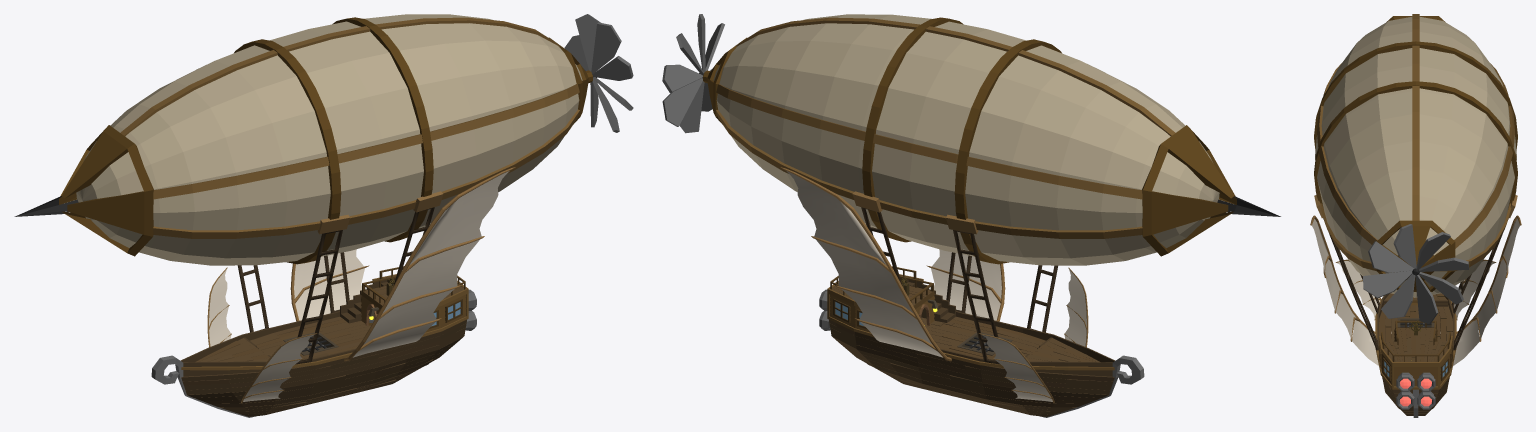
Rendered from lowpoly_flying_ship.glb.
3 views of the same model, side by side, from view 1: azimuth 30°, elevation 25°; view 2: azimuth 150°, elevation 25°; view 3: azimuth 270°, elevation 25° (orthographic). The views are drawn at different scales.
Visible parts, largest first — view 1: Blimp_9, Wing_156, Blimp.Brace6_15, Blimp.Brace1_10, Blimp.Brace2_11, Wing.001_157, Blimp.Brace3_12, Rigging_154, Blimp.Brace4_13, Hull.128_131, Hull.143_107, Hull.142_106 (+13 smaller); view 2: Blimp_9, Wing_156, Blimp.Brace6_15, Blimp.Brace1_10, Blimp.Brace2_11, Wing.001_157, Blimp.Brace3_12, Rigging_154, Blimp.Brace4_13, Hull.128_131, Hull.143_107, Hull.142_106 (+13 smaller); view 3: Blimp_9, Wing_156, Blimp.Brace1_10, Blimp.Brace2_11, Blimp.Brace4_13, Blimp.Brace5_14, Rigging_154, Wing.001_157, Blimp.Brace5.023_6, Blimp.Brace3_12, Blimp.Brace5.022_5, Blimp.Brace5.024_7 (+15 smaller).
Boxes of the visible parts, box(x1,y1,x2,y2) form: Blimp_9: box(76, 14, 582, 265); Wing_156: box(290, 167, 515, 361); Blimp.Brace6_15: box(59, 125, 153, 256); Blimp.Brace1_10: box(234, 17, 433, 264); Blimp.Brace2_11: box(153, 84, 579, 199); Wing.001_157: box(207, 267, 317, 402); Blimp.Brace3_12: box(153, 109, 579, 238); Rigging_154: box(237, 207, 434, 364); Blimp.Brace4_13: box(120, 17, 559, 136); Hull.128_131: box(180, 311, 355, 376); Hull.143_107: box(185, 332, 464, 394); Hull.142_106: box(184, 327, 465, 390); Blimp_9: box(713, 14, 1219, 265); Wing_156: box(780, 167, 1005, 361); Blimp.Brace6_15: box(1142, 125, 1236, 256); Blimp.Brace1_10: box(862, 17, 1061, 264); Blimp.Brace2_11: box(716, 84, 1142, 199); Wing.001_157: box(978, 267, 1088, 402); Blimp.Brace3_12: box(716, 110, 1142, 238); Rigging_154: box(861, 207, 1057, 364); Blimp.Brace4_13: box(736, 17, 1175, 136); Hull.128_131: box(940, 311, 1115, 376); Hull.143_107: box(831, 332, 1110, 394); Hull.142_106: box(830, 327, 1111, 390); Blimp_9: box(1315, 17, 1516, 297); Wing_156: box(1310, 215, 1521, 365); Blimp.Brace1_10: box(1314, 41, 1517, 209); Blimp.Brace2_11: box(1317, 63, 1514, 248); Blimp.Brace4_13: box(1412, 14, 1419, 220); Blimp.Brace5_14: box(1376, 220, 1455, 291); Rigging_154: box(1323, 218, 1508, 350); Wing.001_157: box(1335, 259, 1496, 333); Blimp.Brace5.023_6: box(1363, 270, 1412, 298); Blimp.Brace3_12: box(1320, 203, 1511, 270); Blimp.Brace5.022_5: box(1381, 273, 1415, 318); Blimp.Brace5.024_7: box(1368, 241, 1413, 272).
Bounding box in the file's own units: 314 × 182 × 108.
